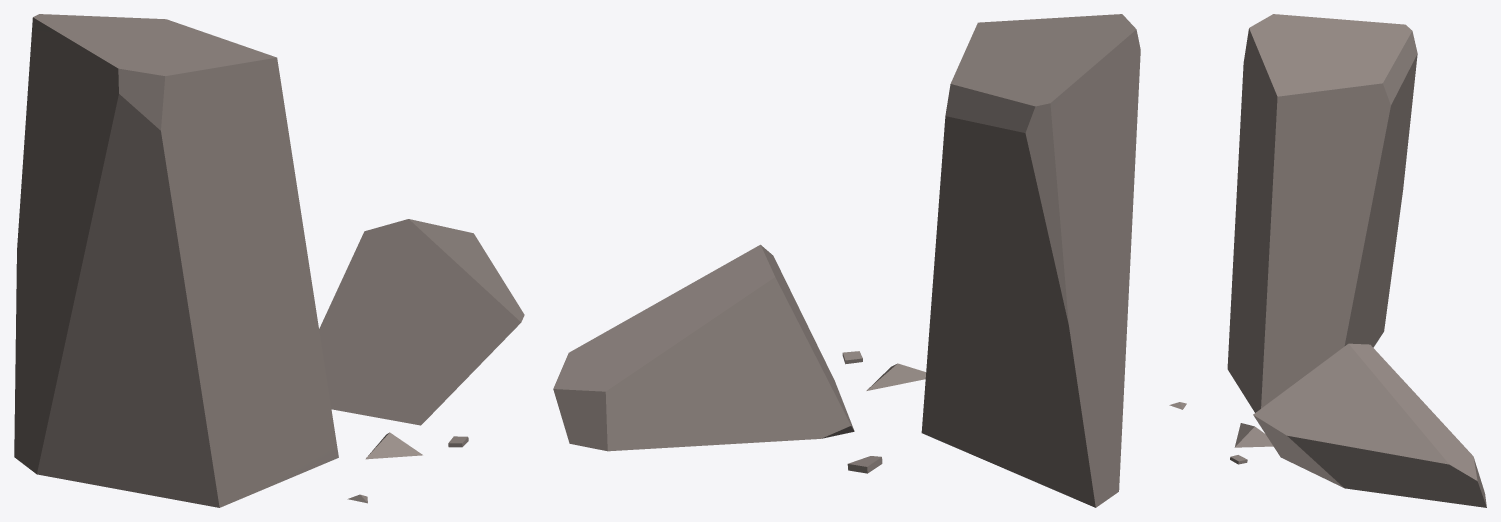
Rendered from Rock_Sharp_crk_m_02.fbx.
The picture shows the model from 3 angles, left to right: view 1: azimuth 30°, elevation 25°; view 2: azimuth 150°, elevation 25°; view 3: azimuth 270°, elevation 25°; orthographic projection. The views are drawn at different scales.
Parts seen in each view (by area): view 1: Rock_Sharp_crk_m_02; view 2: Rock_Sharp_crk_m_02; view 3: Rock_Sharp_crk_m_02.
Boxes of the visible parts, left/top/right/bottom form: Rock_Sharp_crk_m_02: left=14, top=14, right=524, bottom=507; Rock_Sharp_crk_m_02: left=553, top=14, right=1140, bottom=507; Rock_Sharp_crk_m_02: left=1169, top=14, right=1486, bottom=507.
Size of the model in its own units: 131 by 109 by 94.83.
